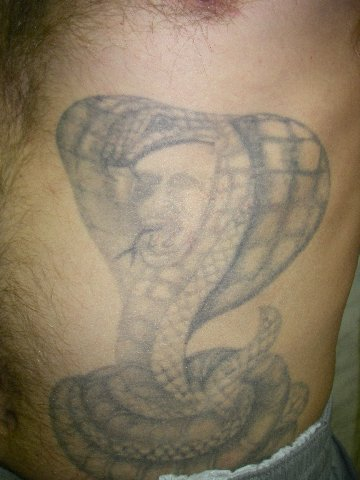tatu7_zmeya: (41, 76, 326, 449)
